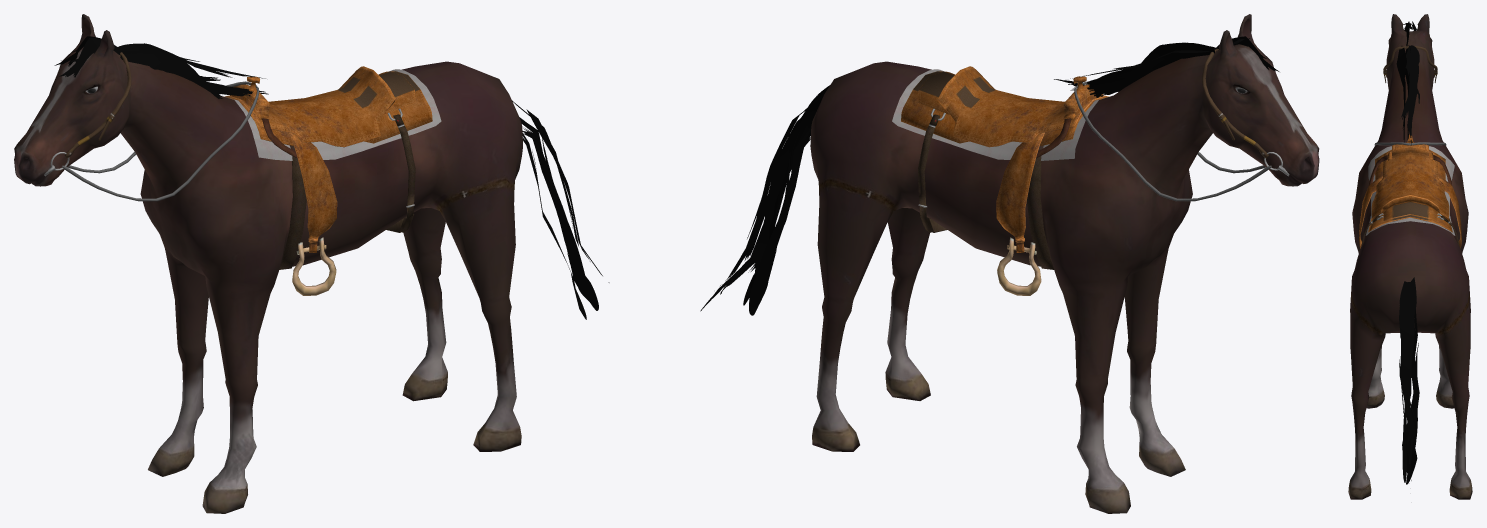
3 renders of one model, left to right at view 1: azimuth 30°, elevation 25°; view 2: azimuth 150°, elevation 25°; view 3: azimuth 270°, elevation 25°, orthographic. The views are drawn at different scales.
Visible parts, largest first — view 1: Horse; view 2: Horse; view 3: Horse.
Part boxes in pixels (x1=…): Horse: x1=14, y1=14, x2=609, y2=513; Horse: x1=700, y1=14, x2=1319, y2=513; Horse: x1=1348, y1=14, x2=1472, y2=499.
Size of the model in its own units: 5.59 by 4.12 by 1.31.
3 materials, 3 textured.
